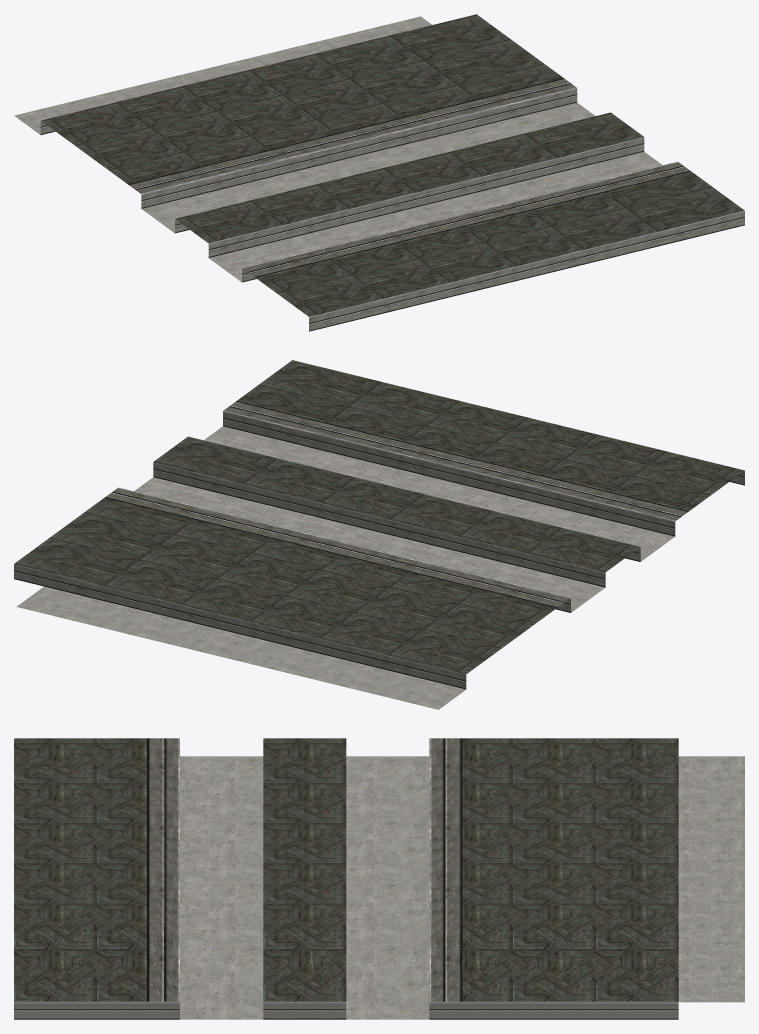
Rendered from DWARF_PALACE_WATER_ROOM_FLOORA.fbx.
3 views of the same model, one above another, from view 1: azimuth 30°, elevation 25°; view 2: azimuth 150°, elevation 25°; view 3: azimuth 270°, elevation 25° (orthographic). The views are drawn at different scales.
Parts seen in each view (by area): view 1: DWARF_PALACE_WATER_ROOM_FLOORA; view 2: DWARF_PALACE_WATER_ROOM_FLOORA; view 3: DWARF_PALACE_WATER_ROOM_FLOORA.
Boxes of the visible parts, <box> form: DWARF_PALACE_WATER_ROOM_FLOORA: <box>14,14,744,331</box>; DWARF_PALACE_WATER_ROOM_FLOORA: <box>14,360,744,709</box>; DWARF_PALACE_WATER_ROOM_FLOORA: <box>14,738,744,1019</box>.
Size of the model in its own units: 187581 by 6024 by 219977.
Materials: 4 (4 with a texture image).
